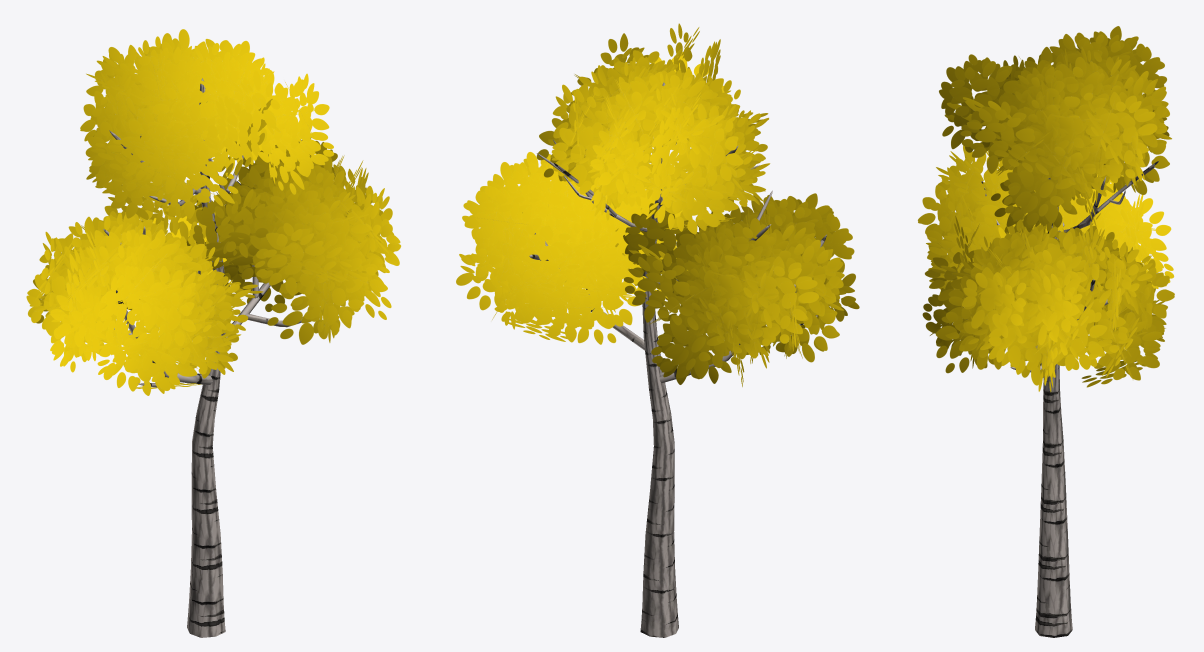
The model's file is BirchTree_4.glb.
3 renders of one model, left to right at view 1: azimuth 30°, elevation 25°; view 2: azimuth 150°, elevation 25°; view 3: azimuth 270°, elevation 25°, orthographic.
Parts seen in each view (by area): view 1: BirchTree_4; view 2: BirchTree_4; view 3: BirchTree_4.
Boxes of the visible parts, left/top/right/bottom form: BirchTree_4: left=26, top=29, right=401, bottom=637; BirchTree_4: left=456, top=23, right=859, bottom=637; BirchTree_4: left=917, top=26, right=1174, bottom=637.
Size of the model in its own units: 2.78 by 4.21 by 1.84.
2 materials, 2 textured.
